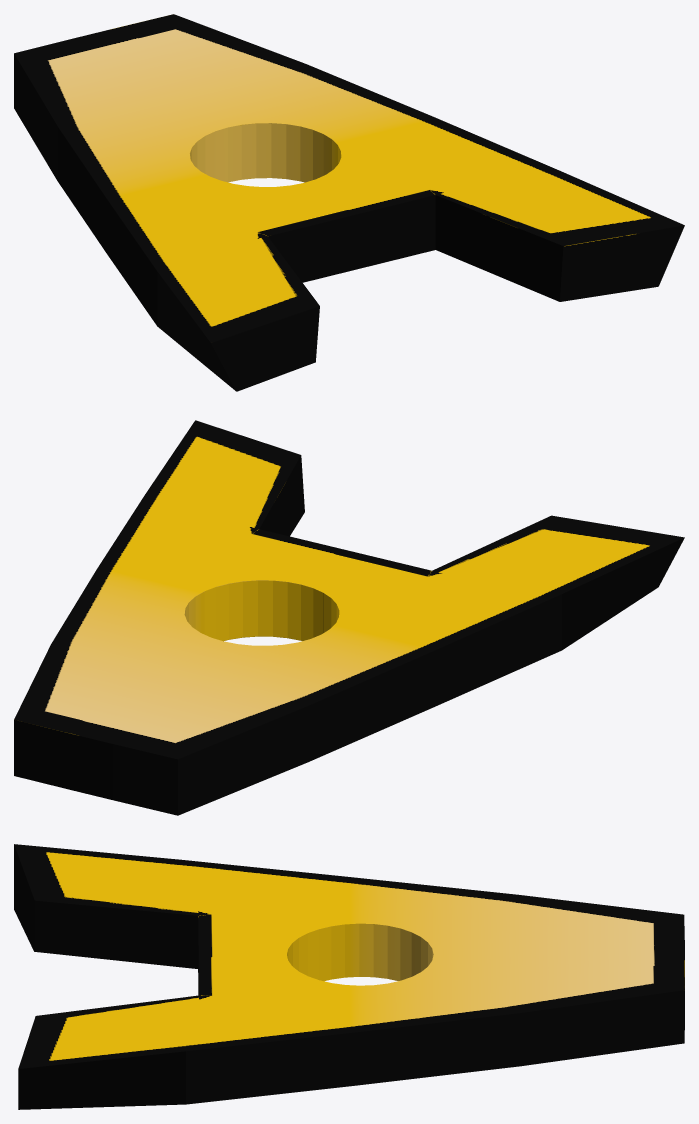
Rendered from BAM_A2.fbx.
3 renders of one model, top to bottom at view 1: azimuth 30°, elevation 25°; view 2: azimuth 150°, elevation 25°; view 3: azimuth 270°, elevation 25°, orthographic. The views are drawn at different scales.
Parts seen in each view (by area): view 1: A2; view 2: A2; view 3: A2.
Part boxes in pixels (x1,y1,x2,y2): A2: (14, 14, 684, 391); A2: (14, 420, 684, 815); A2: (14, 844, 684, 1109).
Bounding box in the file's own units: 286 × 31.5 × 360.
Materials: 1 (1 with a texture image).
